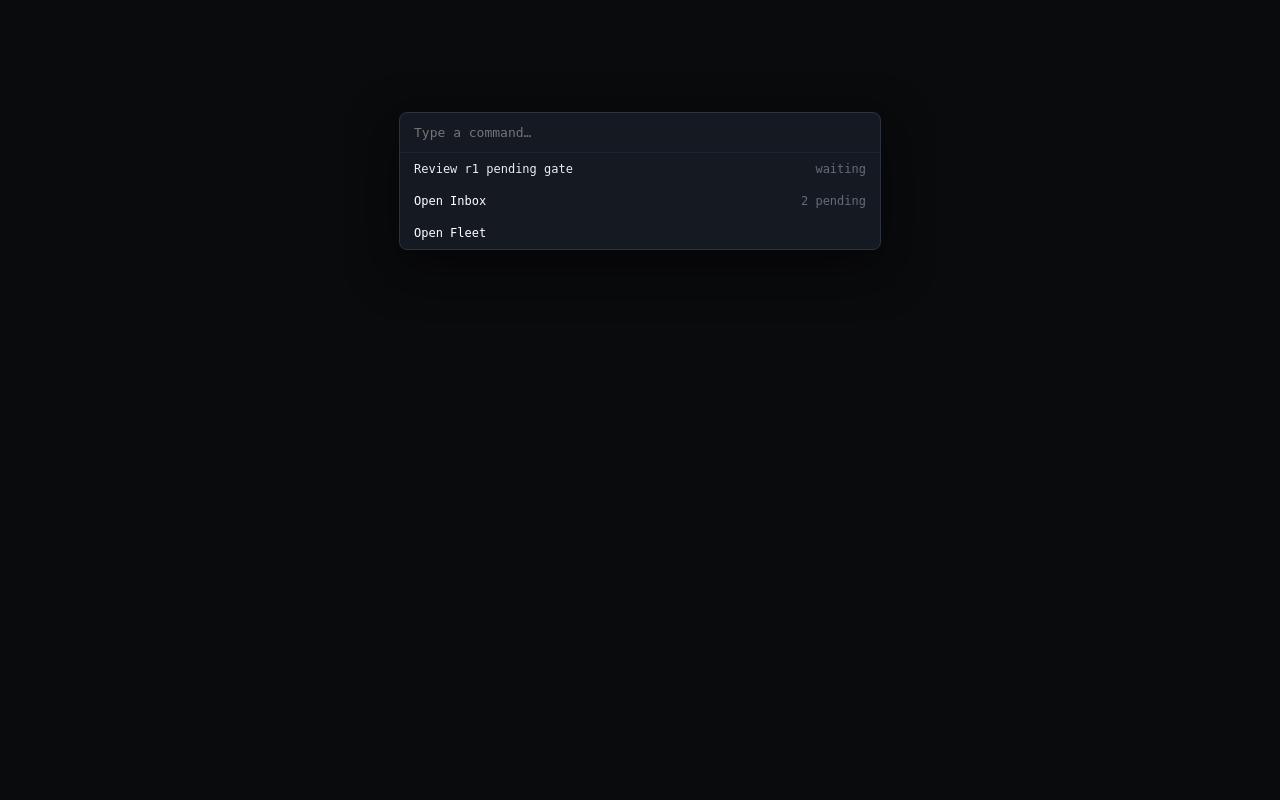
Test: CommandPalette › filters commands by label, case-insensitively
Type "INBOX" into the field with test id "palette-input" at (640, 133), box [400,113,880,153]
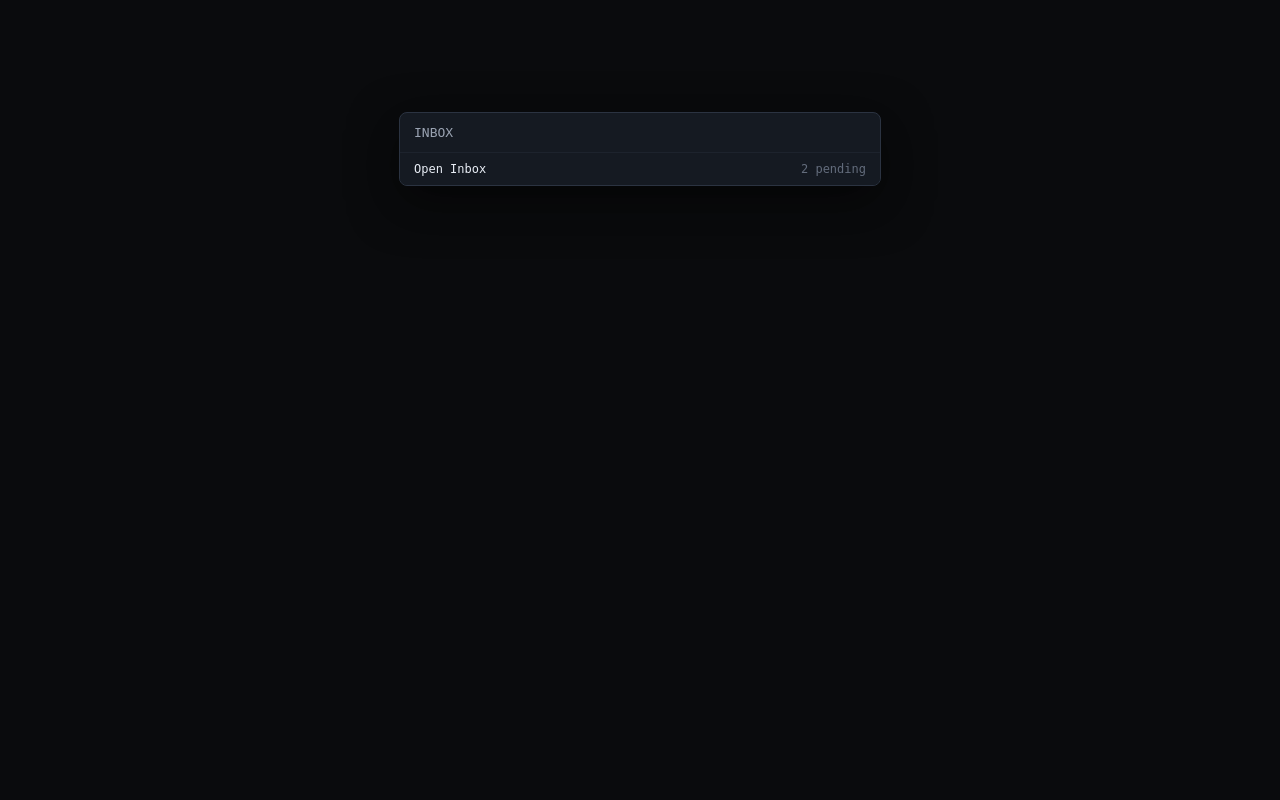
Expected: the option with test id "palette-command" shows "Open Inbox", [400,153,880,185]
Expected: the number of options with test id "palette-command" is 1, [400,153,880,185]
